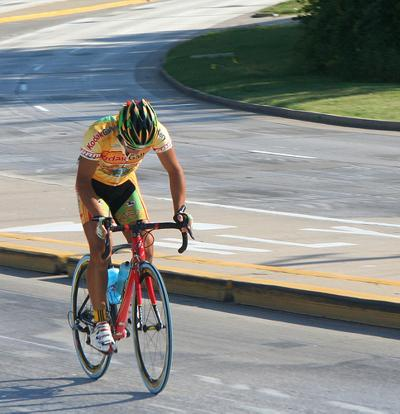person: (74, 100, 193, 356)
